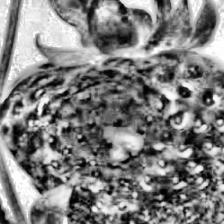Anthracnose Fruit Rot: (20, 60, 224, 224)
